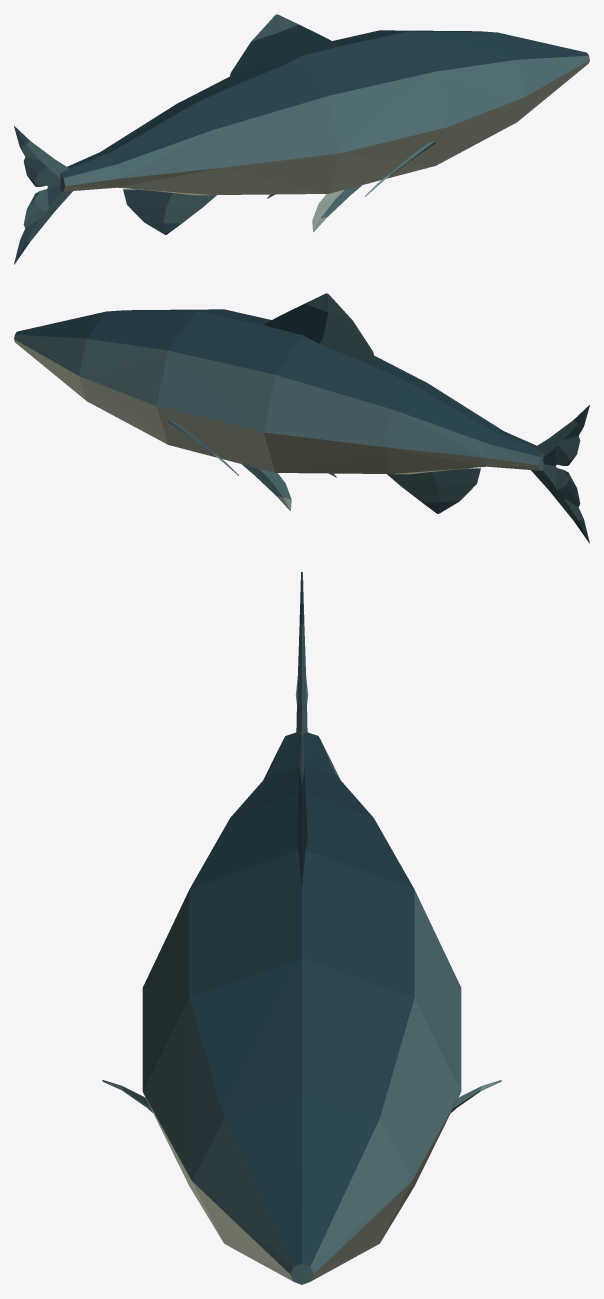
The model's file is SM_CoastalFry.fbx.
3 renders of one model, top to bottom at view 1: azimuth 30°, elevation 25°; view 2: azimuth 150°, elevation 25°; view 3: azimuth 270°, elevation 25°, orthographic. The views are drawn at different scales.
Parts seen in each view (by area): view 1: SM_CoastalFry; view 2: SM_CoastalFry; view 3: SM_CoastalFry.
Part boxes in pixels (bbox=[...]): SM_CoastalFry: bbox=[14, 14, 589, 264]; SM_CoastalFry: bbox=[14, 293, 589, 543]; SM_CoastalFry: bbox=[102, 572, 501, 1284].
Bounding box in the file's own units: 7 × 2.11 × 2.39.
